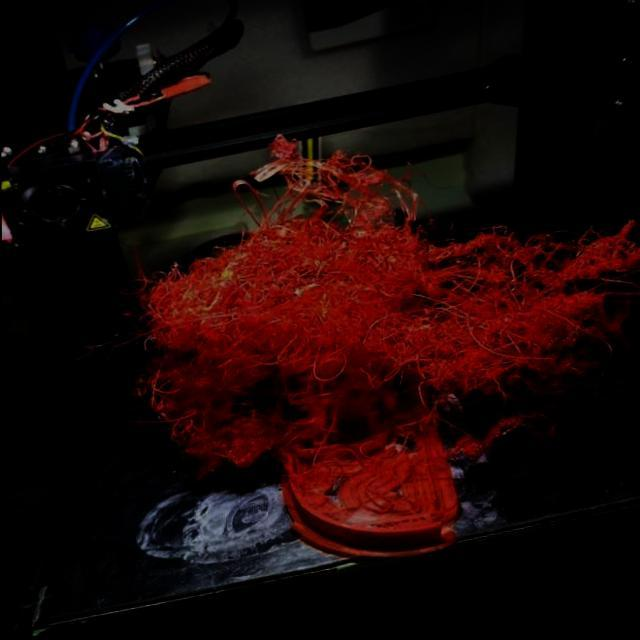spaghetti: (123, 231, 307, 493), (456, 228, 640, 450), (303, 278, 474, 481), (261, 139, 446, 292)
